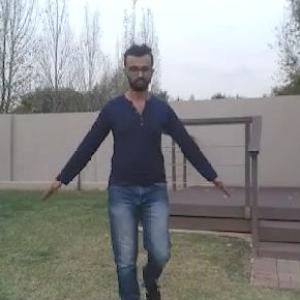land: (49, 36, 228, 299)
